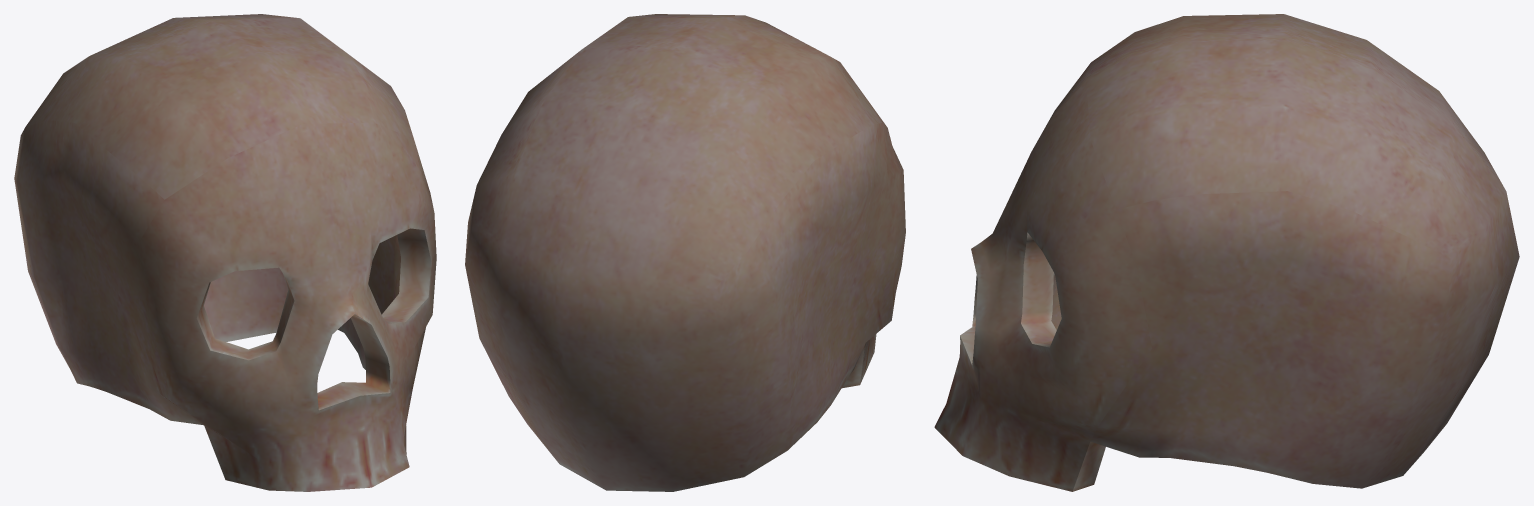
Rendered from Skull.fbx.
3 renders of one model, left to right at view 1: azimuth 30°, elevation 25°; view 2: azimuth 150°, elevation 25°; view 3: azimuth 270°, elevation 25°, orthographic. The views are drawn at different scales.
Parts seen in each view (by area): view 1: Skull; view 2: Skull; view 3: Skull.
Part boxes in pixels (x1,y1,x2,y2): Skull: (14, 14, 436, 491); Skull: (465, 14, 905, 491); Skull: (934, 14, 1519, 491).
Bounding box in the file's own units: 14.69 × 17.67 × 22.79.
